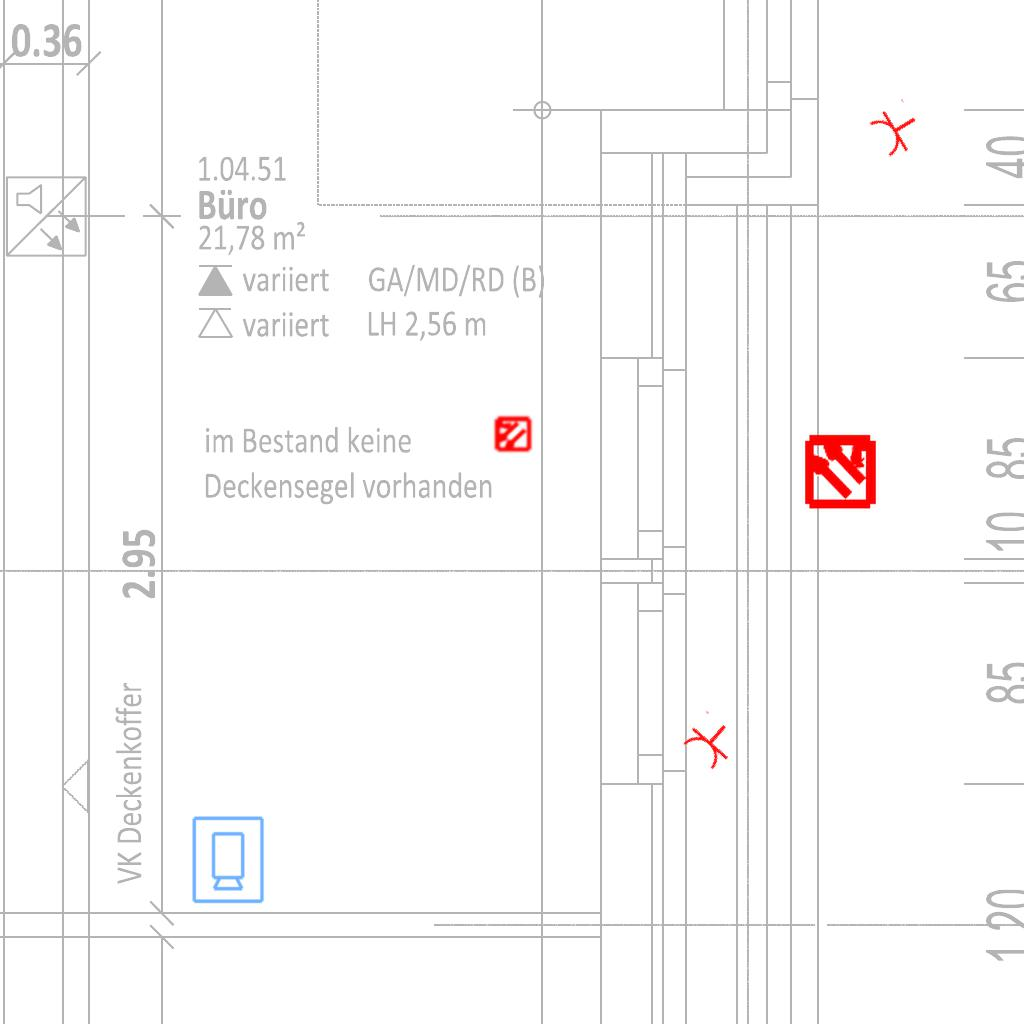KFO_Kamera_mit_Festobjektiv: (189, 814, 266, 905)
OT_Multisensormelder_(Kombination_RMO_WMD): (784, 413, 897, 526), (484, 406, 540, 462)
Schukosteckdose_einfach: (677, 708, 744, 774), (865, 96, 928, 162)
